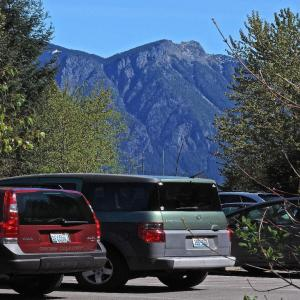Vehicle-registration-plate: (49, 231, 72, 245), (193, 237, 210, 248)
